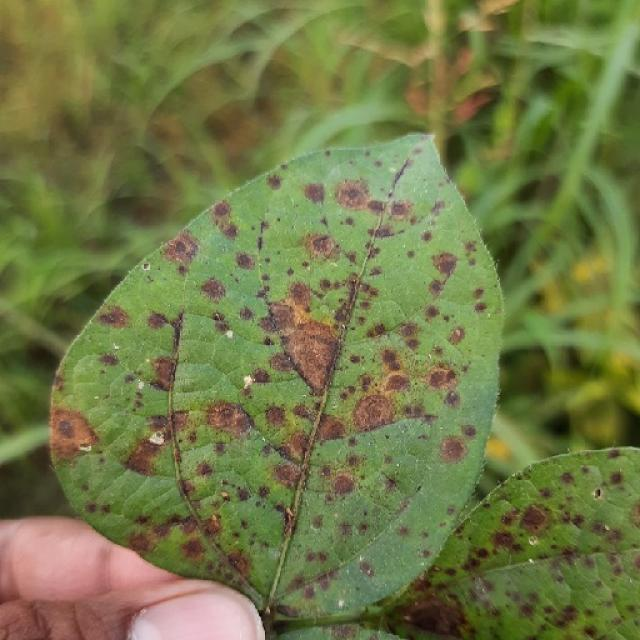Anthracnose: (279, 312, 342, 392), (47, 405, 101, 462), (398, 597, 471, 638), (353, 378, 402, 435), (352, 299, 415, 337), (378, 458, 428, 498), (124, 433, 169, 477), (201, 400, 253, 437), (588, 501, 635, 541), (160, 231, 201, 268), (208, 198, 241, 243), (335, 180, 373, 211), (284, 297, 317, 331), (315, 415, 348, 444), (517, 503, 548, 531), (95, 304, 131, 328), (430, 251, 459, 280), (439, 436, 469, 464), (150, 357, 177, 388), (307, 233, 337, 259), (427, 367, 458, 391), (199, 276, 227, 302), (272, 462, 301, 487), (226, 550, 251, 576), (179, 537, 206, 561), (264, 405, 289, 430), (331, 472, 356, 495), (288, 281, 313, 304), (383, 372, 411, 392), (302, 181, 325, 205), (388, 200, 414, 221), (268, 353, 295, 373), (146, 311, 172, 331), (380, 348, 403, 370), (492, 530, 516, 551), (234, 251, 256, 271), (203, 514, 222, 535), (212, 201, 232, 220), (57, 419, 76, 439), (249, 367, 271, 384), (275, 604, 301, 618), (97, 352, 120, 367), (448, 326, 465, 345), (444, 390, 461, 408), (266, 173, 283, 191), (590, 521, 609, 536), (424, 304, 441, 320), (519, 602, 536, 618), (609, 470, 625, 486), (359, 561, 374, 577), (461, 424, 478, 438), (559, 471, 575, 485), (284, 508, 295, 528), (606, 447, 623, 459), (473, 301, 488, 314), (303, 585, 316, 599), (472, 287, 485, 300), (446, 504, 458, 516), (593, 487, 603, 499), (220, 490, 229, 500)
Blackgram: (50, 135, 502, 619)
